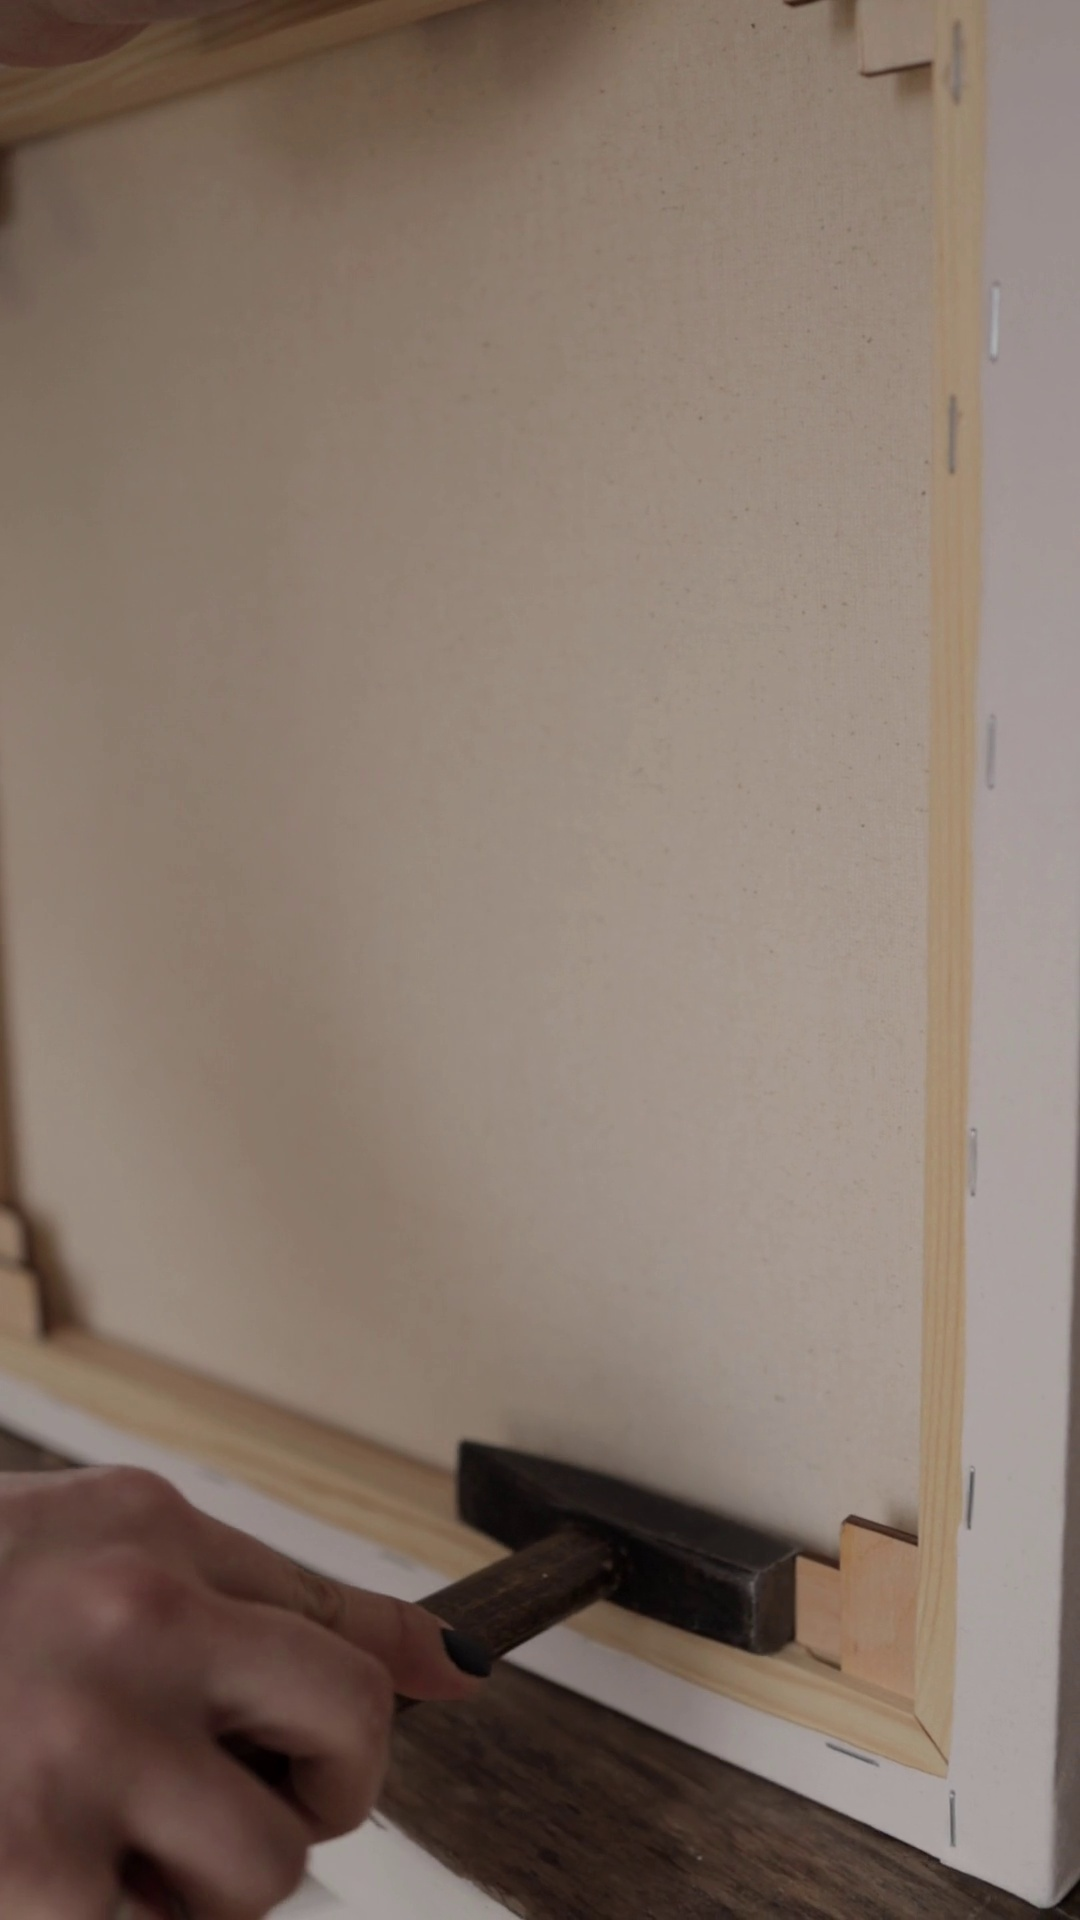hammer: (102, 1425, 806, 1828)
